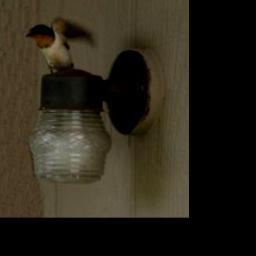Swallow: (25, 15, 97, 73)
